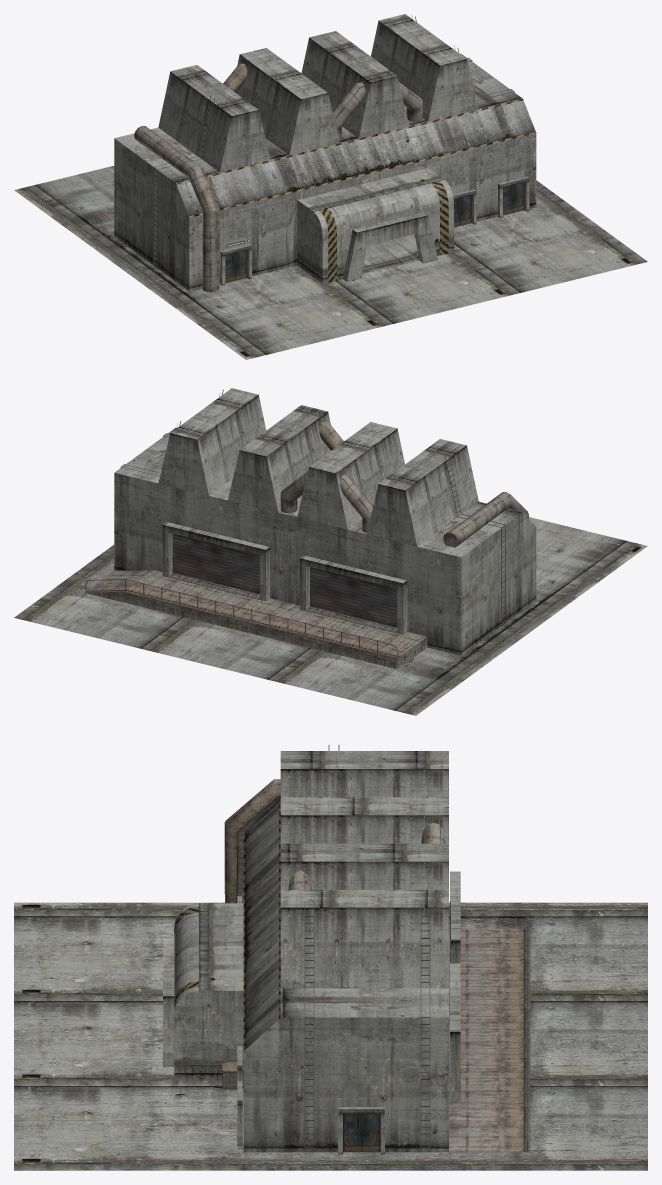
3 renders of one model, top to bottom at view 1: azimuth 30°, elevation 25°; view 2: azimuth 150°, elevation 25°; view 3: azimuth 270°, elevation 25°, orthographic. The views are drawn at different scales.
Parts seen in each view (by area): view 1: Cube.002, Plane, Cube, Cube.001_Curve, Cube_Piece, Cube_Piece.001, Cube.001_Curve.002, Cube_Piece.002, Cube.007, Cube.003, Cube.006, Cylinder.002; view 2: Cube.002, Plane, Cube.001, Cube.002_Piece_Piece.001, Cube.002_Piece_Piece, Cube.001_Curve, Cube.001_Curve.003, Cube.001_Piece_Curve.001_Curve.001, Cylinder.002; view 3: Plane, Cube.002, Cube.001, Cube, Cube.001_Curve, Cube.004, Cube.002_Piece_Piece, Cube_Piece, Cylinder.031, Cylinder.001, Cube.002_Piece_Piece.001.
Boxes of the visible parts, box(x1,y1,x2,y2) form: Cube.002: box(114, 14, 536, 291); Plane: box(14, 166, 647, 359); Cube: box(297, 168, 453, 283); Cube.001_Curve: box(134, 126, 219, 292); Cube_Piece: box(343, 212, 437, 281); Cube_Piece.001: box(362, 234, 418, 274); Cube.001_Curve.002: box(332, 82, 422, 140); Cube_Piece.002: box(319, 181, 448, 282); Cube.007: box(498, 176, 529, 217); Cube.003: box(220, 244, 251, 285); Cube.006: box(453, 189, 476, 227); Cylinder.002: box(153, 96, 214, 268); Cube.002: box(114, 388, 536, 655); Plane: box(14, 517, 647, 715); Cube.001: box(84, 570, 427, 669); Cube.002_Piece_Piece.001: box(300, 555, 407, 634); Cube.002_Piece_Piece: box(162, 522, 269, 601); Cube.001_Curve: box(443, 492, 528, 547); Cube.001_Curve.003: box(280, 471, 372, 532); Cube.001_Piece_Curve.001_Curve.001: box(85, 578, 398, 657); Cylinder.002: box(444, 453, 505, 626); Plane: box(14, 902, 647, 1170); Cube.002: box(243, 751, 448, 1152); Cube.001: box(449, 928, 530, 1152); Cube: box(174, 903, 243, 1080); Cube.001_Curve: box(224, 779, 280, 903); Cube.004: box(338, 1107, 384, 1154); Cube.002_Piece_Piece: box(450, 963, 460, 1102); Cube_Piece: box(163, 948, 174, 1066); Cylinder.031: box(304, 900, 314, 1152); Cylinder.001: box(420, 900, 430, 1152); Cube.002_Piece_Piece.001: box(450, 871, 460, 962).
Bounding box in the file's own units: 3046 × 1146 × 3046.
9 materials, 8 textured.
